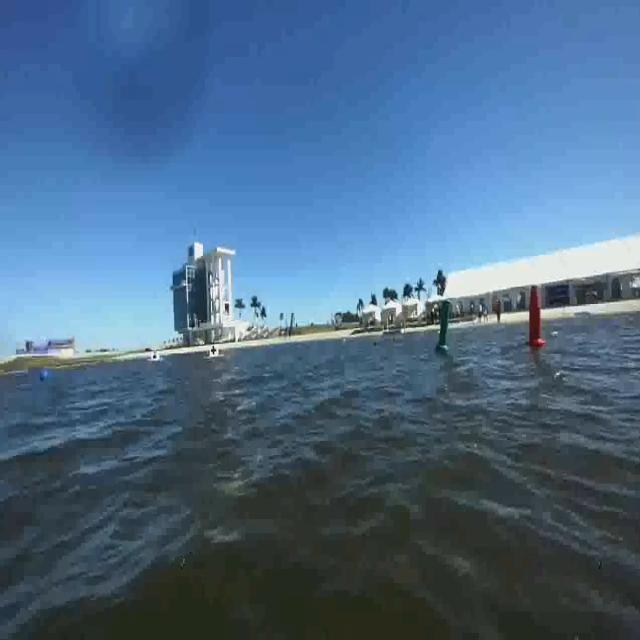blue-buoy: (37, 368, 50, 383)
green-column-buoy: (436, 298, 454, 354)
red-column-buoy: (525, 286, 546, 348)
